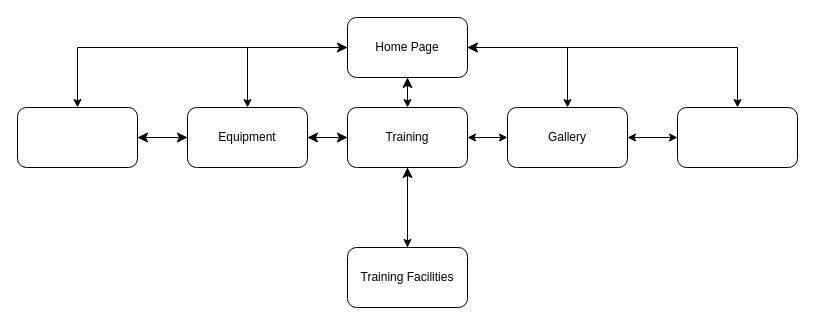
The diagram is 815 pixels wide and 325 high, and some of its shapes have lost their labels. The shapes that lost their labels are listed below. From the top down, each one's centre as x and y in pixels, then its label:
At point 77,137: "History".
At point 737,137: "About".
